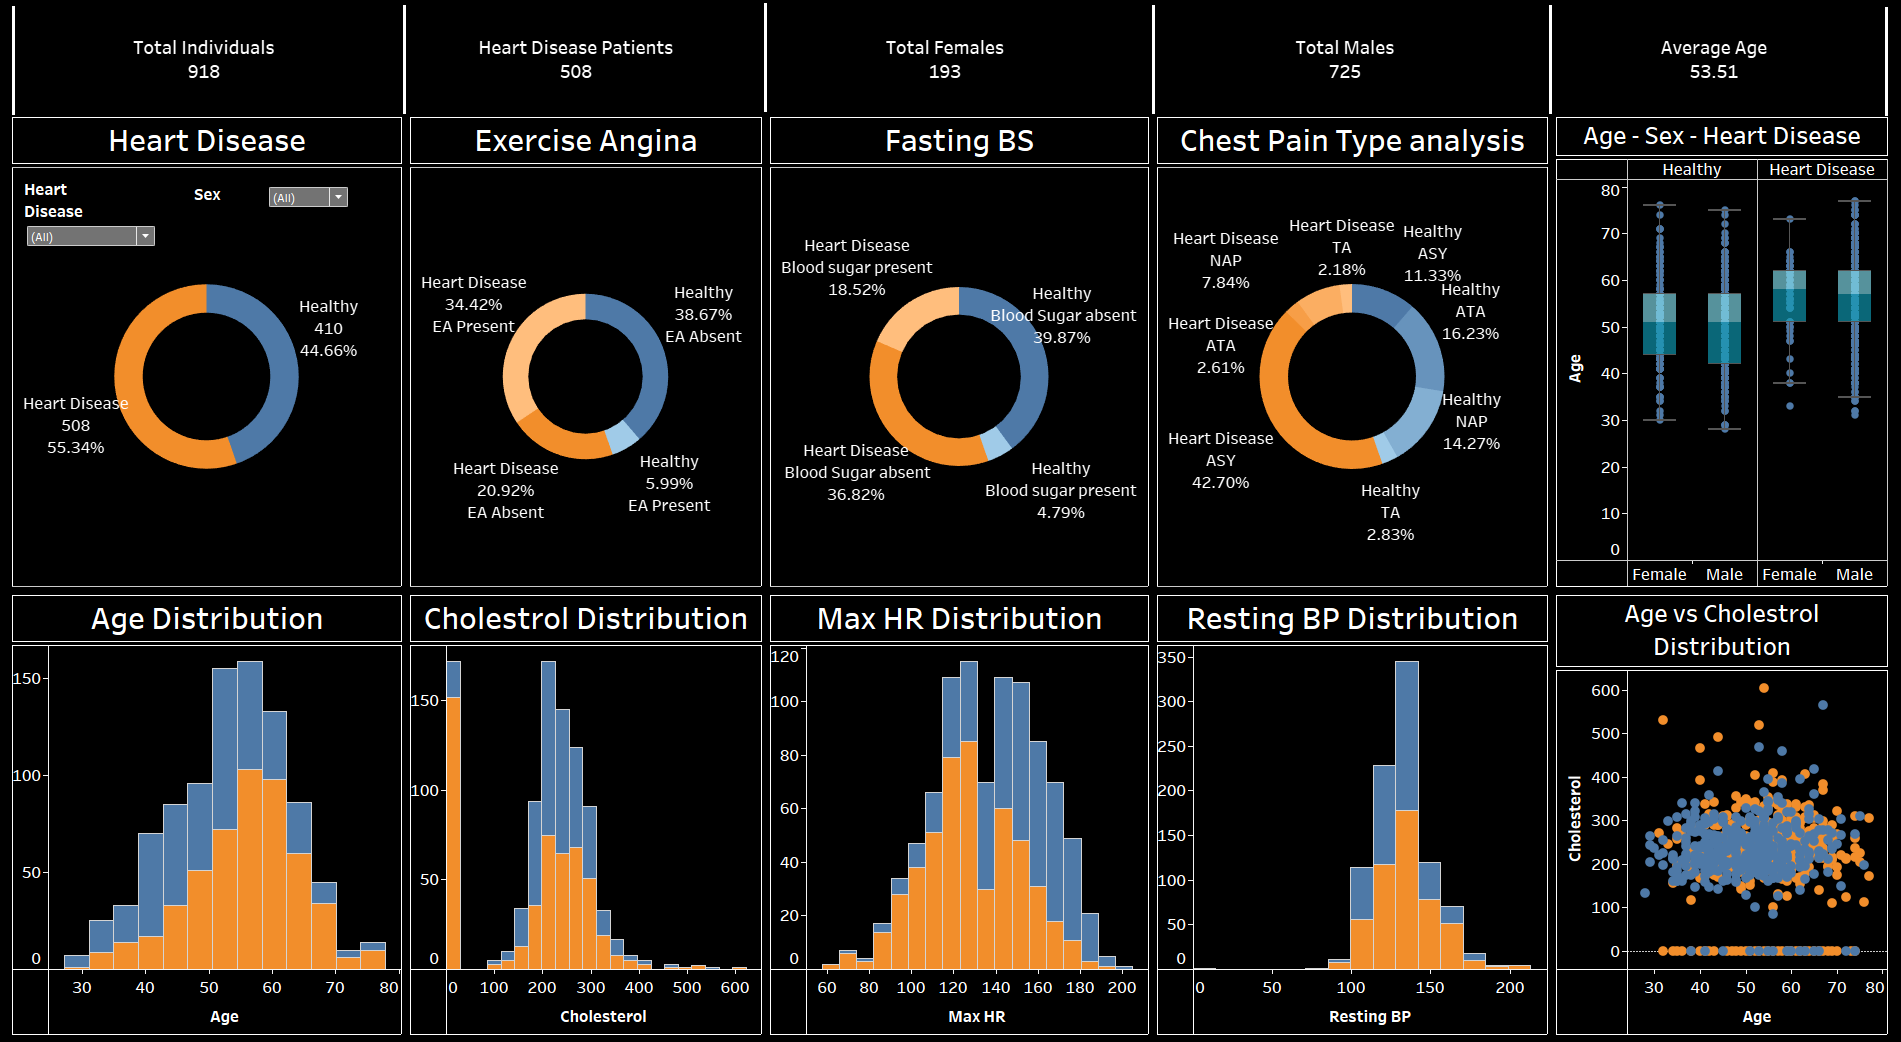

The dashboard page shown, as its layout file describes it:
{"tool":"tableau","page":{"name":"Dashboard 1","canvas":[1900,1050],"ordinal":0},"visuals":[{"type":"blank","box":[764,6,3,109]},{"type":"worksheet","title":"Sheet 13","mark":"Automatic","box":[8,8,398,108]},{"type":"blank","box":[403,8,3,109]},{"type":"worksheet","title":"Sheet 13 (2)","mark":"Automatic","box":[406,8,360,108]},{"type":"worksheet","title":"Sheet 13 (3)","mark":"Automatic","box":[766,8,387,108]},{"type":"blank","box":[1152,8,3,109]},{"type":"worksheet","title":"Sheet 13 (4)","mark":"Automatic","box":[1153,8,399,108]},{"type":"blank","box":[1549,8,3,109]},{"type":"worksheet","title":"Sheet 13 (5)","mark":"Automatic","box":[1552,8,340,108]},{"type":"blank","box":[12,9,3,109]},{"type":"blank","box":[1885,10,3,109]},{"type":"worksheet","title":"Sheet 1","mark":"Pie","rows":["Calculation_1559089924405420033","Calculation_1559089924405420033"],"box":[8,116,398,478.5]},{"type":"worksheet","title":"Sheet 1 (2)","mark":"Pie","rows":["Calculation_1559089924405420033","Calculation_1559089924405420033"],"box":[406,116,360.1,478]},{"type":"worksheet","title":"Sheet 1 (3)","mark":"Pie","rows":["Calculation_1559089924405420033","Calculation_1559089924405420033"],"box":[766,116,386.9,478]},{"type":"worksheet","title":"Sheet 1 (5)","mark":"Pie","rows":["Calculation_1559089924405420033","Calculation_1559089924405420033"],"box":[1152.9,116,399,478]},{"type":"worksheet","title":"Sheet 6 (7)","mark":"Circle","rows":["Age"],"cols":["HeartDisease","Sex"],"box":[1552,116,340,478]},{"type":"filter","title":"Sheet 1","param":"[federated.0mmssow19dczy51bjvsjd0ov2lq9].[none:HeartDisease:nk]","box":[24,181,134,85]},{"type":"filter","title":"Sheet 6 (7)","param":"[federated.0mmssow19dczy51bjvsjd0ov2lq9].[none:Sex:nk]","box":[194,187,157,36]},{"type":"worksheet","title":"Sheet 6 (2)","mark":"Automatic","rows":["Cholesterol"],"cols":["Cholesterol (bin)"],"box":[406,594,360.1,448]},{"type":"worksheet","title":"Sheet 6 (3)","mark":"Automatic","rows":["MaxHR"],"cols":["Max HR (bin)"],"box":[766,594,386.9,448]},{"type":"worksheet","title":"Sheet 6 (4)","mark":"Automatic","rows":["RestingBP"],"cols":["Resting BP (bin)"],"box":[1152.9,594,399,448]},{"type":"worksheet","title":"Sheet 6 (6)","mark":"Automatic","rows":["Cholesterol"],"cols":["Age"],"box":[1552,594,340,448]},{"type":"worksheet","title":"Sheet 6","mark":"Automatic","rows":["Age"],"cols":["Age (bin)"],"box":[8,594.5,398,447.5]}]}

Visuals, with their boxes in screenshot pixels (x1, y1, x2, y2), scaled from the page's 1900x1050 canvas onto the 1901x1042 screenshot:
blank: bbox(764, 6, 767, 114)
"Sheet 13" worksheet: bbox(8, 8, 406, 115)
blank: bbox(403, 8, 406, 116)
"Sheet 13 (2)" worksheet: bbox(406, 8, 766, 115)
"Sheet 13 (3)" worksheet: bbox(766, 8, 1154, 115)
blank: bbox(1153, 8, 1156, 116)
"Sheet 13 (4)" worksheet: bbox(1154, 8, 1553, 115)
blank: bbox(1550, 8, 1553, 116)
"Sheet 13 (5)" worksheet: bbox(1553, 8, 1893, 115)
blank: bbox(12, 9, 15, 117)
blank: bbox(1886, 10, 1889, 118)
"Sheet 1" worksheet (Pie marks): bbox(8, 115, 406, 590)
"Sheet 1 (2)" worksheet (Pie marks): bbox(406, 115, 767, 589)
"Sheet 1 (3)" worksheet (Pie marks): bbox(766, 115, 1154, 589)
"Sheet 1 (5)" worksheet (Pie marks): bbox(1154, 115, 1553, 589)
"Sheet 6 (7)" worksheet (Circle marks): bbox(1553, 115, 1893, 589)
"Sheet 1" filter: bbox(24, 180, 158, 264)
"Sheet 6 (7)" filter: bbox(194, 186, 351, 221)
"Sheet 6 (2)" worksheet: bbox(406, 589, 767, 1034)
"Sheet 6 (3)" worksheet: bbox(766, 589, 1154, 1034)
"Sheet 6 (4)" worksheet: bbox(1154, 589, 1553, 1034)
"Sheet 6 (6)" worksheet: bbox(1553, 589, 1893, 1034)
"Sheet 6" worksheet: bbox(8, 590, 406, 1034)
